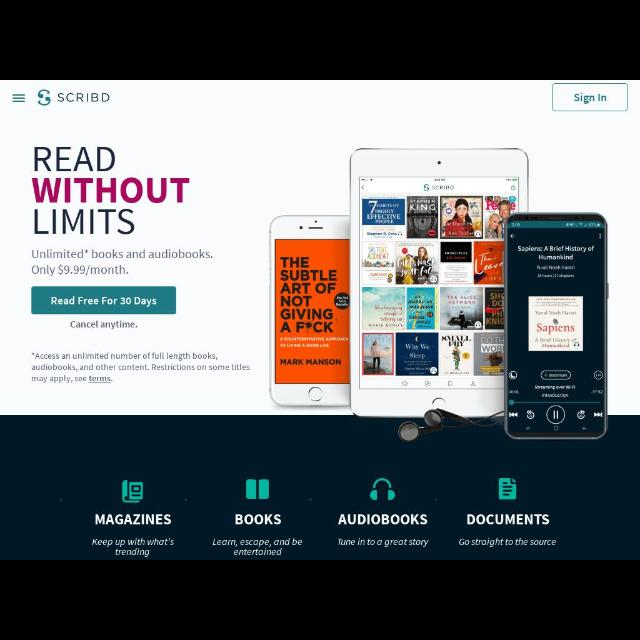backgroundimage: (269, 147, 609, 440)
icon: (12, 94, 26, 102)
image: (38, 90, 110, 106), (370, 478, 396, 500), (121, 481, 142, 504), (247, 478, 270, 499), (498, 478, 518, 500)
panel: (1, 415, 640, 559)
text: (31, 147, 189, 235), (32, 352, 250, 383), (31, 248, 212, 276), (212, 538, 302, 556), (92, 538, 174, 556), (51, 296, 157, 308), (338, 514, 428, 526), (466, 514, 550, 526), (458, 538, 556, 548), (337, 538, 429, 548), (95, 514, 171, 524), (70, 322, 138, 331), (234, 514, 282, 526), (574, 94, 606, 105)
textbutton: (32, 287, 176, 315), (553, 84, 627, 110)
